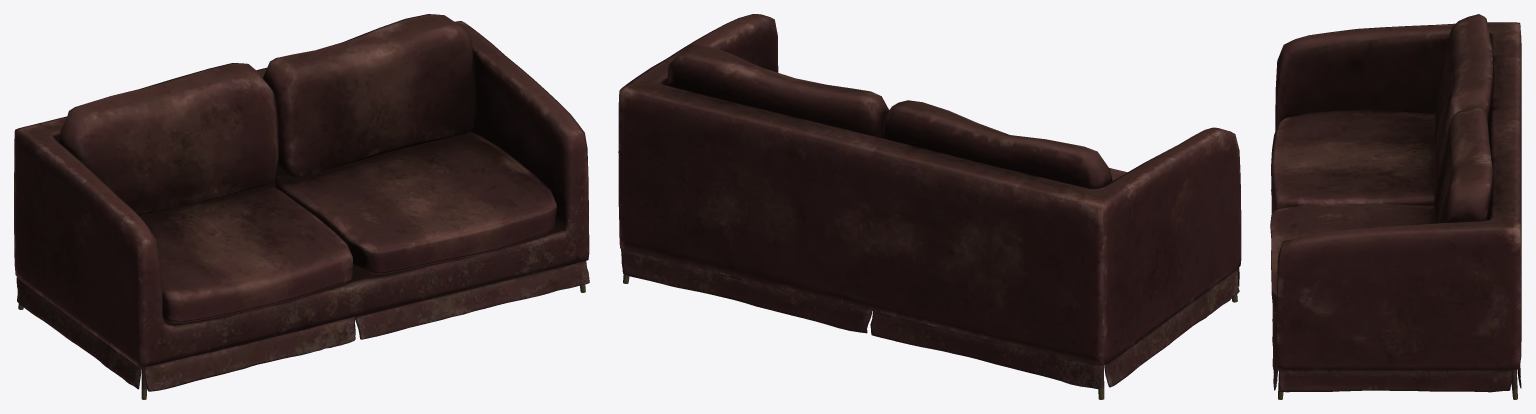
Rendered from Couch1.glb.
The picture shows the model from 3 angles, left to right: view 1: azimuth 30°, elevation 25°; view 2: azimuth 150°, elevation 25°; view 3: azimuth 270°, elevation 25°; orthographic projection. The views are drawn at different scales.
Visible parts, largest first — view 1: couch02_lo_lambert1_0; view 2: couch02_lo_lambert1_0; view 3: couch02_lo_lambert1_0.
Boxes of the visible parts, x1,y1,x2,y2 form: couch02_lo_lambert1_0: (14,14,589,399); couch02_lo_lambert1_0: (618,14,1241,399); couch02_lo_lambert1_0: (1270,14,1521,399).
Bounding box in the file's own units: 202 × 90.07 × 102.
1 material, 1 textured.
